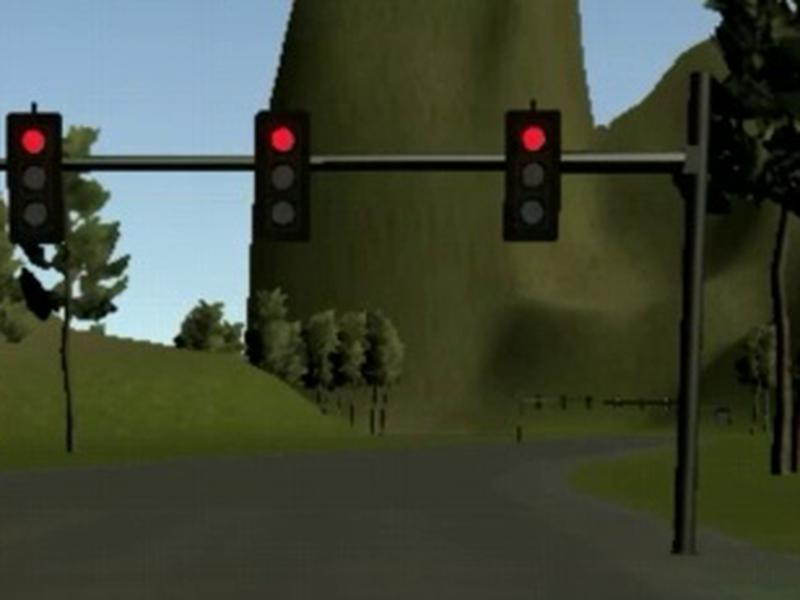Red: (504, 110, 561, 241), (7, 113, 64, 243), (254, 111, 310, 243)
